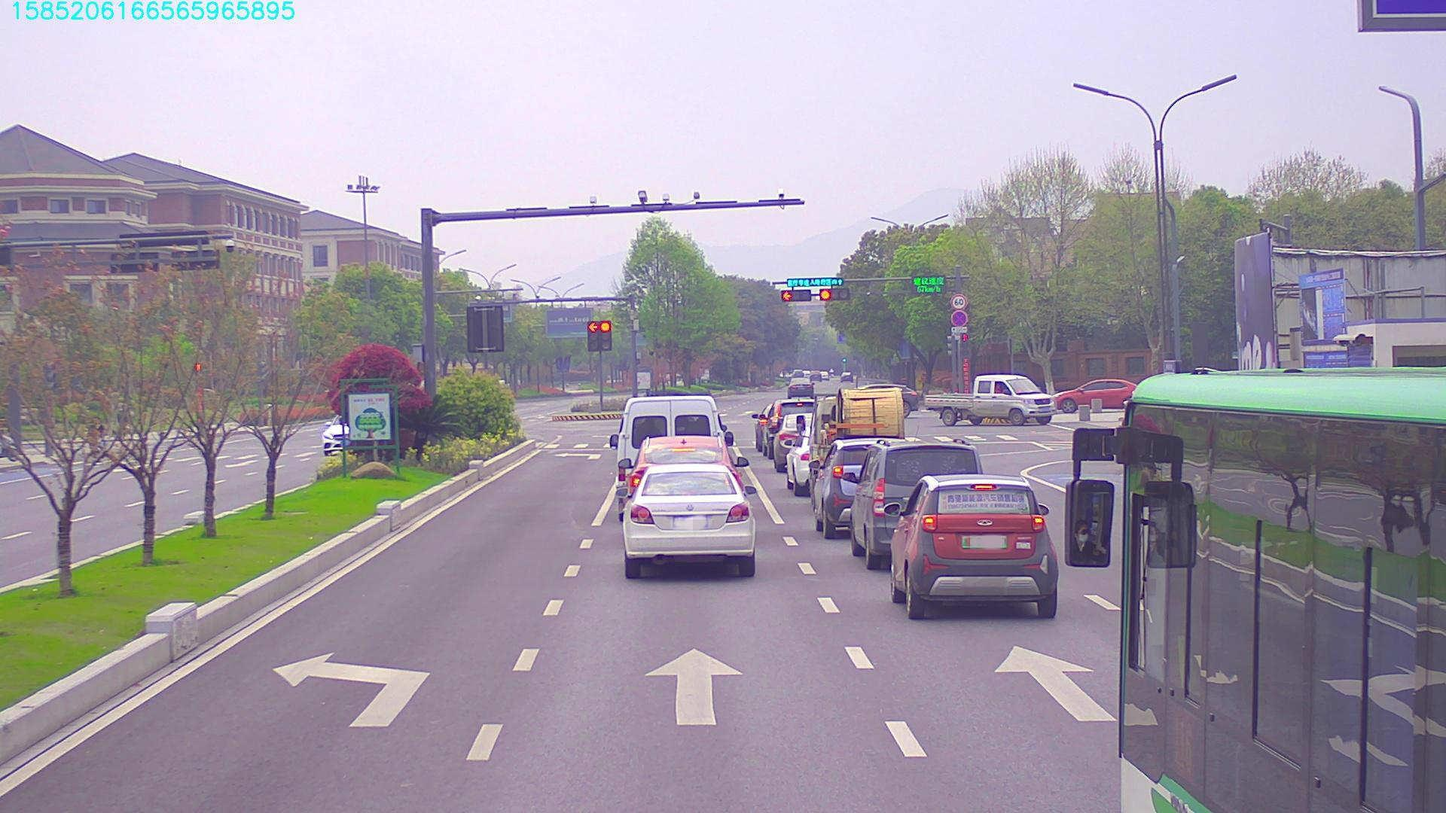red: (782, 286, 813, 302), (820, 291, 850, 300)
wait_on: (787, 276, 844, 285)
